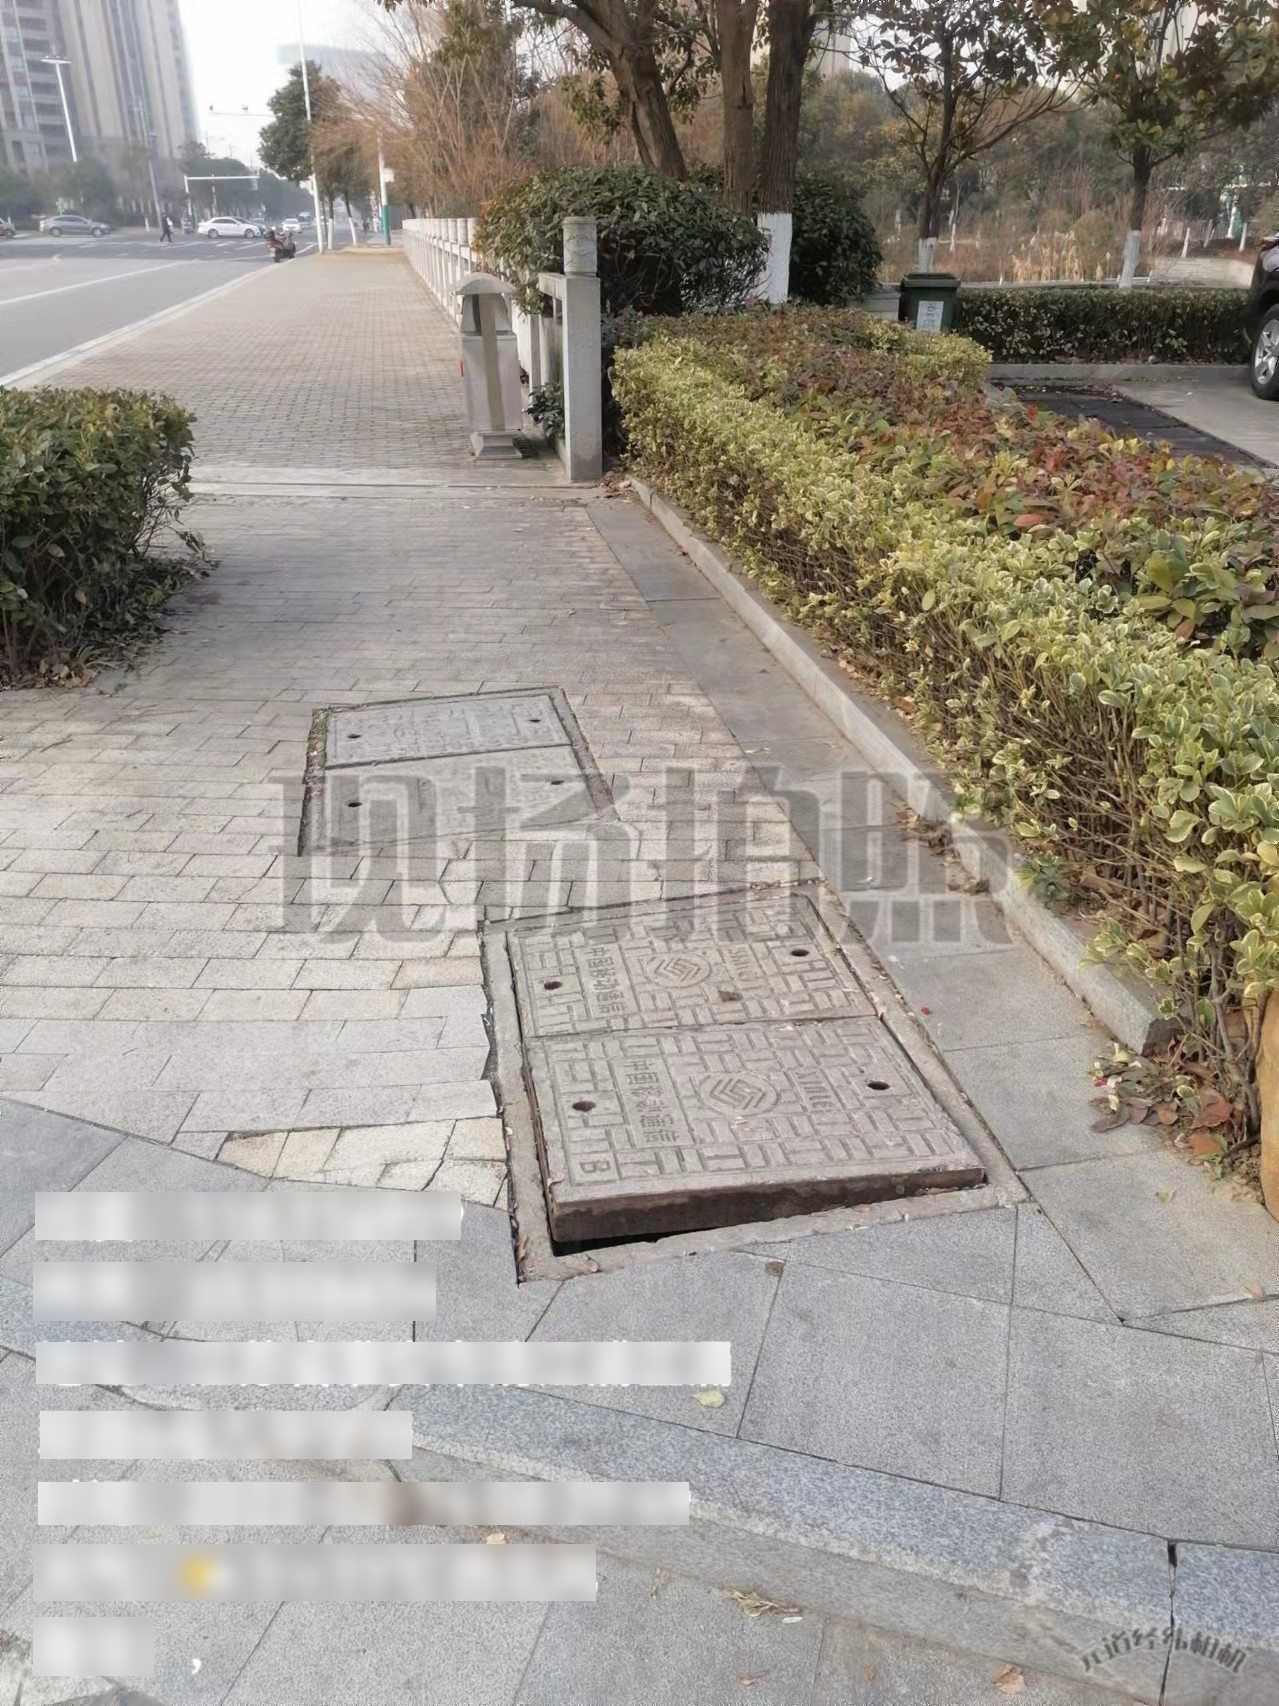good: (297, 686, 621, 862)
uncovered: (476, 883, 1034, 1283)
